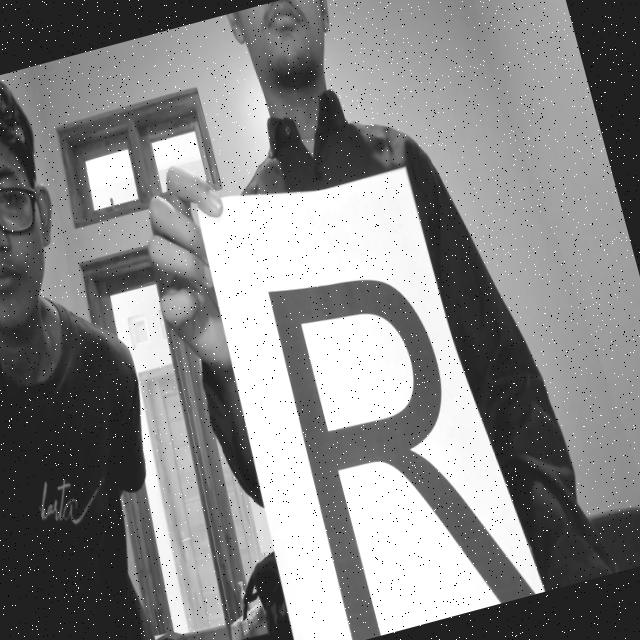r: (236, 210, 545, 640)
